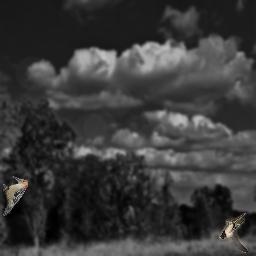Swallow: (219, 213, 248, 253)
Woodpecker: (3, 176, 28, 216)
